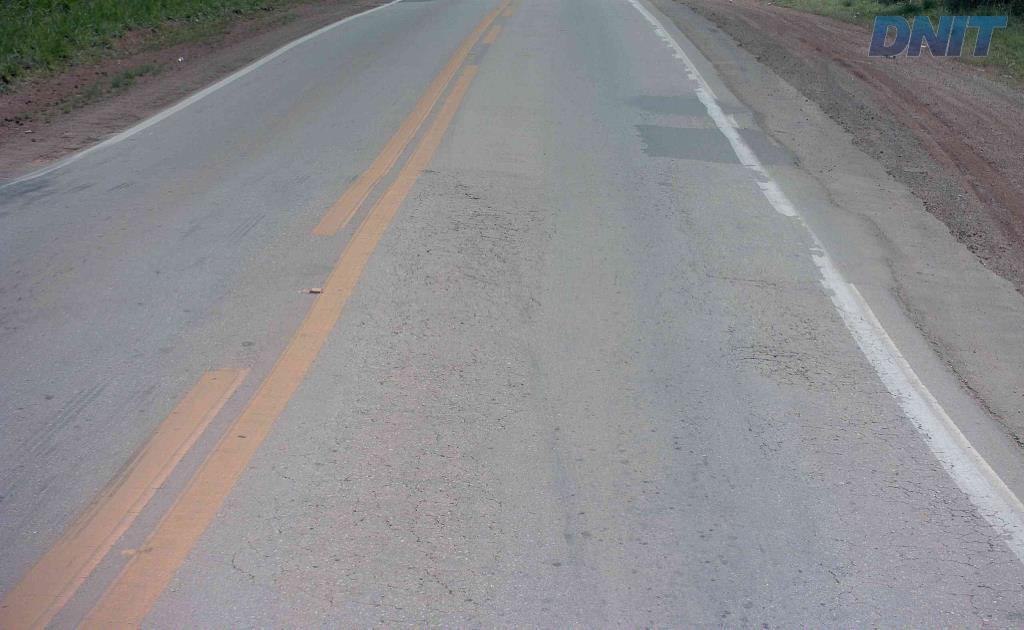crack: (735, 341, 799, 364)
